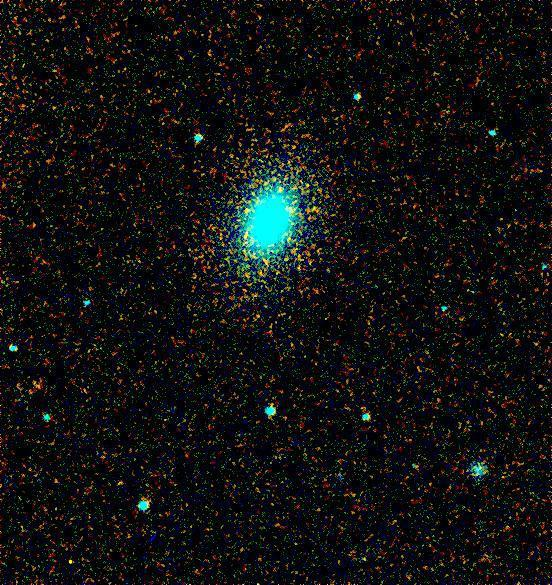star: (266, 172, 296, 202)
